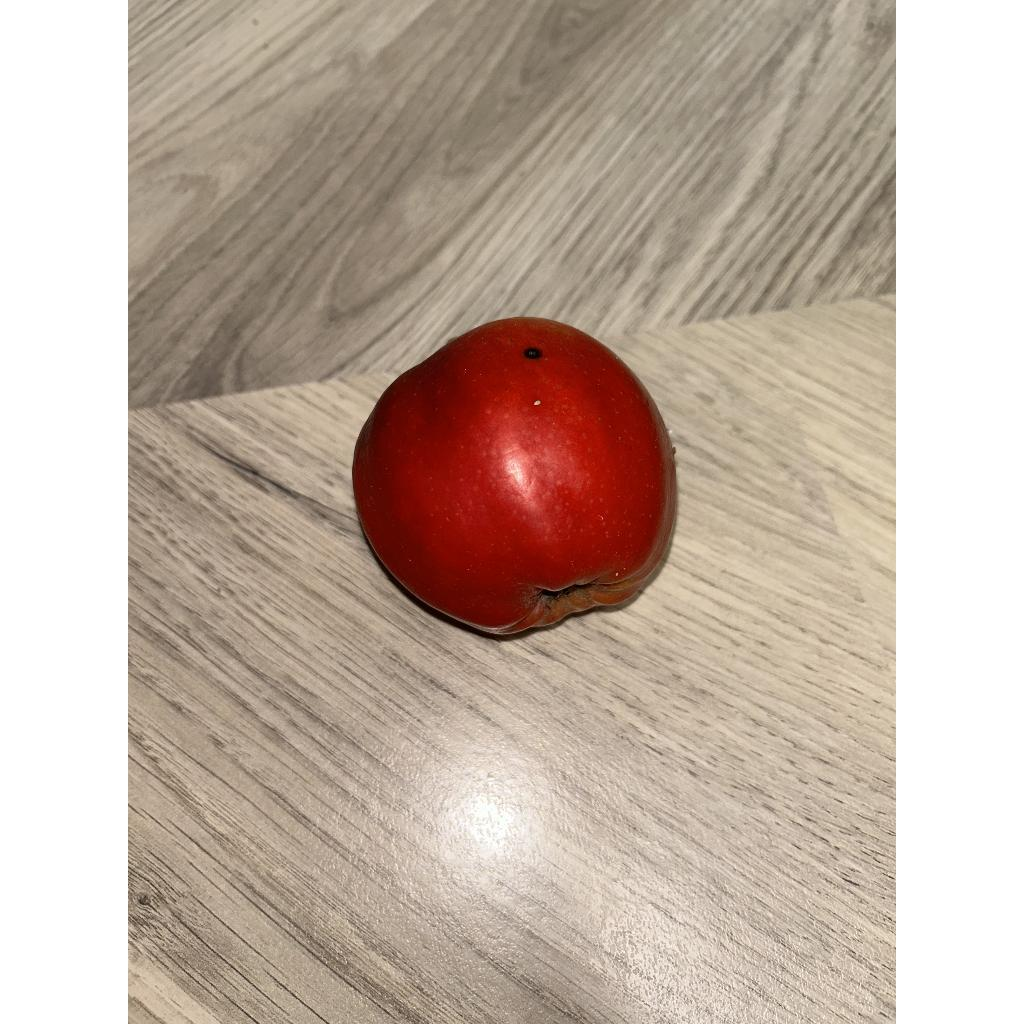apple: (351, 317, 681, 642)
